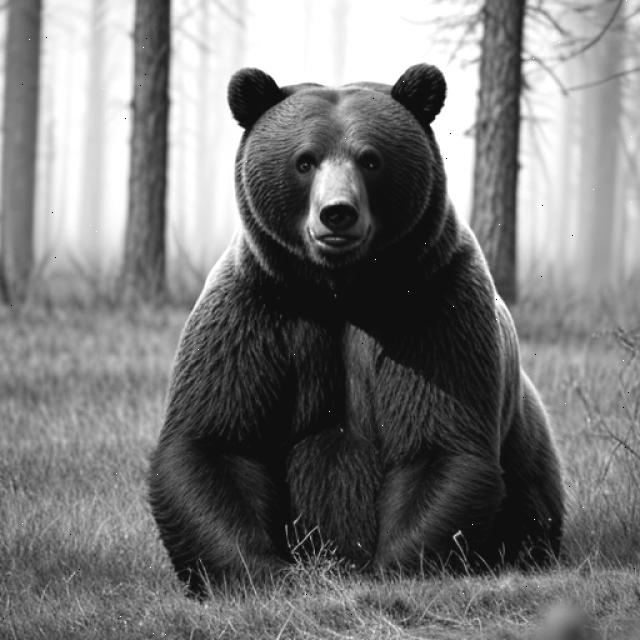bear: (186, 59, 466, 284)
